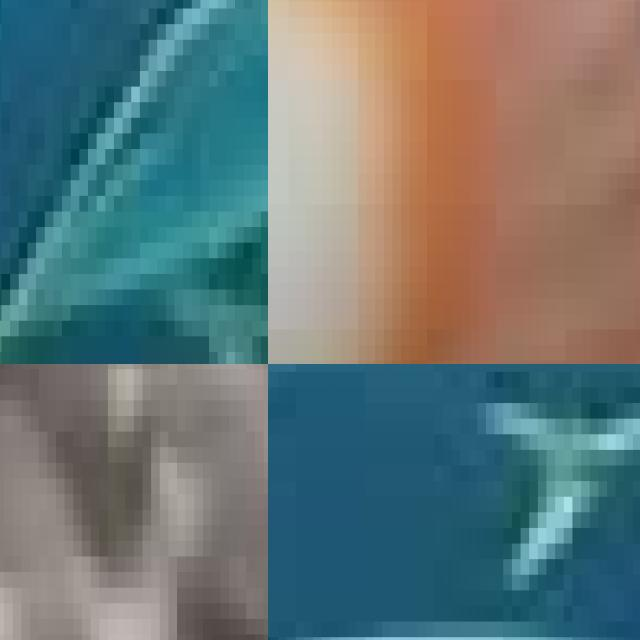fish: (0, 0, 268, 364), (494, 364, 640, 606)
